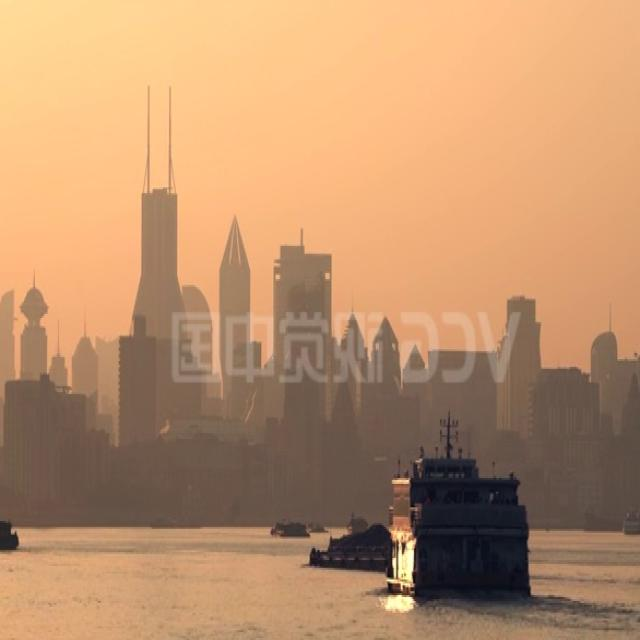cargoship: (306, 516, 395, 574), (274, 514, 309, 540), (0, 515, 21, 552), (347, 511, 368, 530), (309, 515, 327, 533)
passenger ship: (386, 418, 538, 602), (621, 488, 640, 538)
